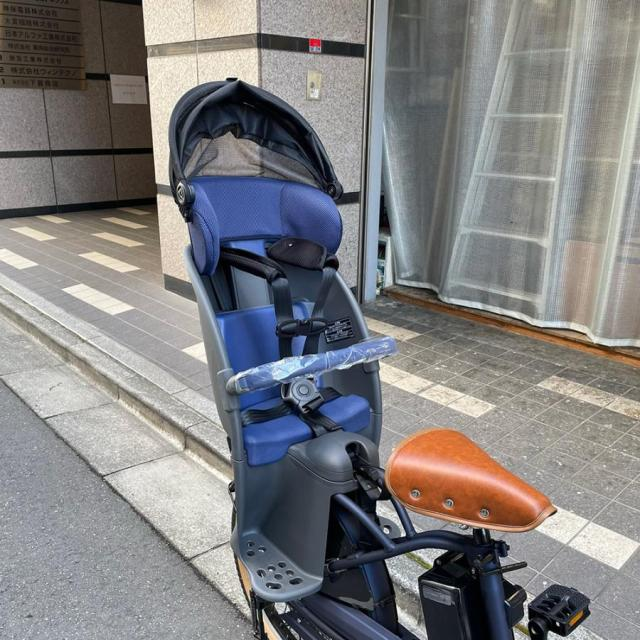childseat: (162, 74, 412, 610)
